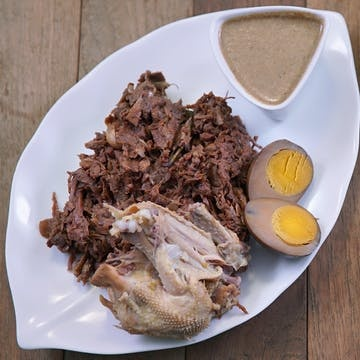gudeg: (25, 76, 329, 313)
